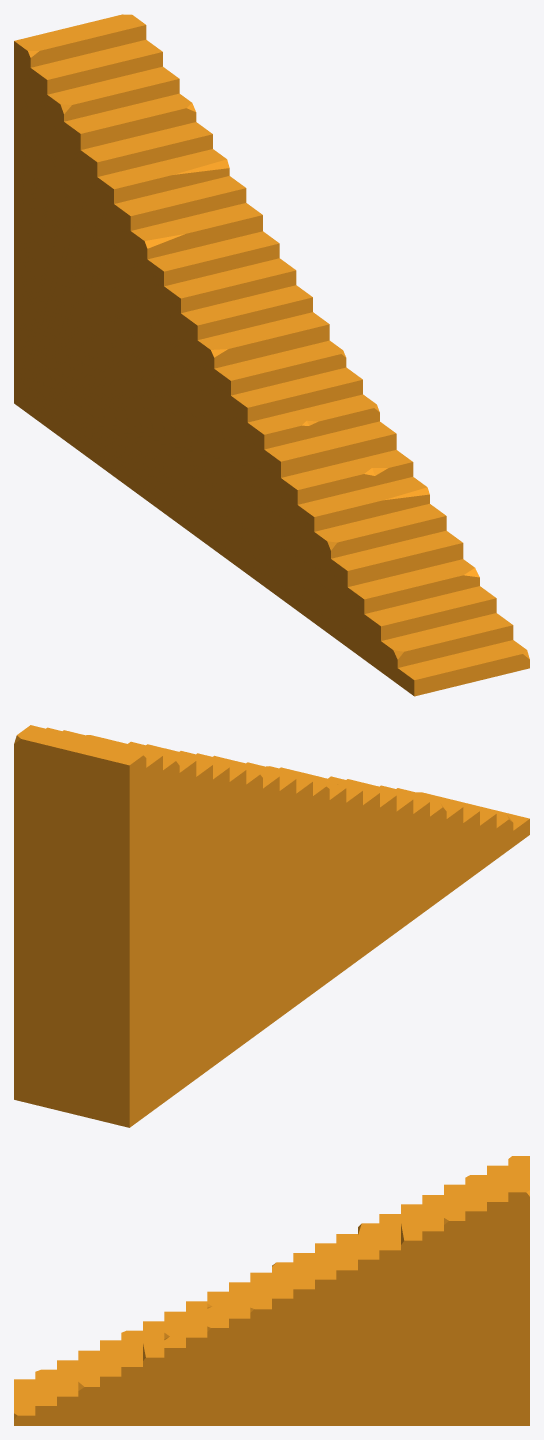
File: SM_Buildings_Stairs_1x3_01P.fbx
The picture shows the model from 3 angles, top to bottom: view 1: azimuth 30°, elevation 25°; view 2: azimuth 150°, elevation 25°; view 3: azimuth 270°, elevation 25°; orthographic projection. The views are drawn at different scales.
Visible parts, largest first — view 1: SM_Buildings_Stairs_1x3_01P; view 2: SM_Buildings_Stairs_1x3_01P; view 3: SM_Buildings_Stairs_1x3_01P.
Boxes of the visible parts, <box> form: SM_Buildings_Stairs_1x3_01P: <box>14,14,529,696</box>; SM_Buildings_Stairs_1x3_01P: <box>14,725,529,1127</box>; SM_Buildings_Stairs_1x3_01P: <box>14,1156,529,1425</box>.
Bounding box in the file's own units: 100 × 300 × 600.
